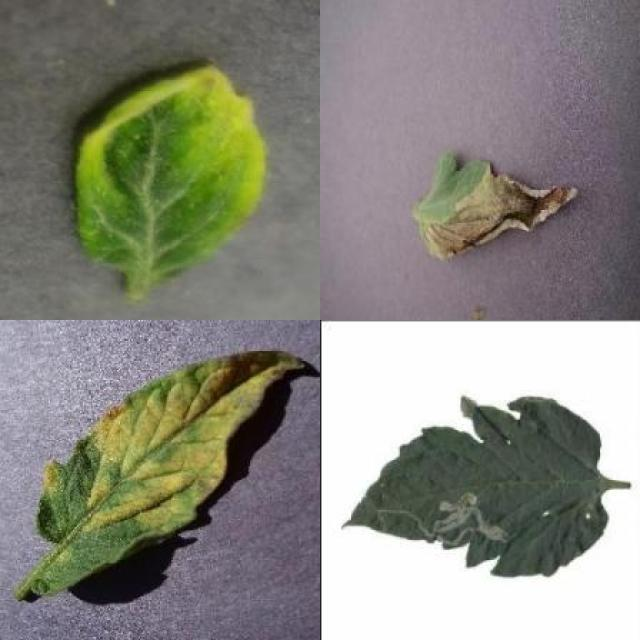Late Blight: (421, 157, 584, 263)
Leaf Miner: (342, 392, 608, 578)
Leaf Mold: (27, 346, 313, 596)
Yellow Leaf Curl Virus: (74, 64, 266, 274)
